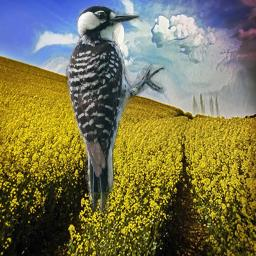Woodpecker: (63, 4, 169, 215)
